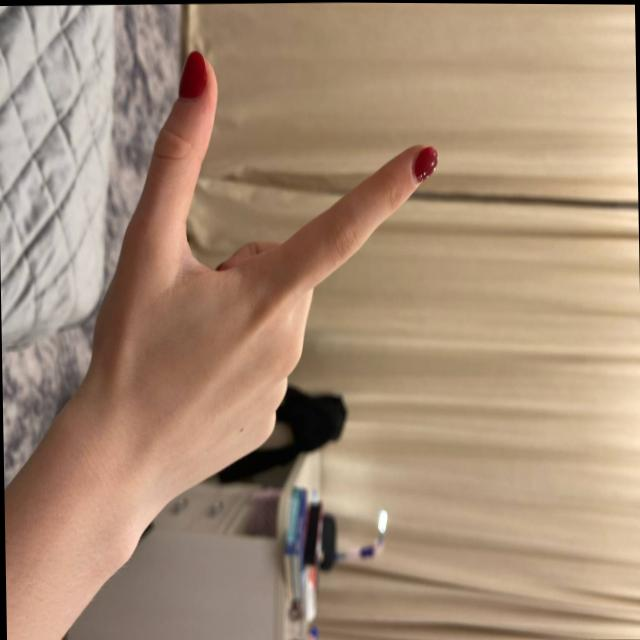-: (110, 45, 451, 567)
